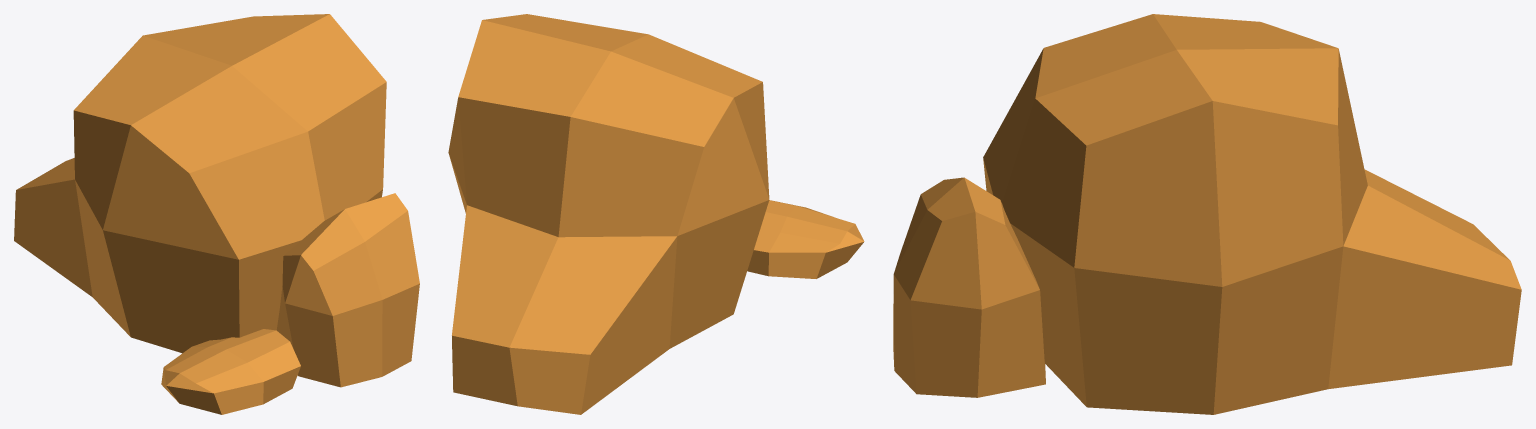
Rendered from yellow_stone_04.fbx.
3 views of the same model, side by side, from view 1: azimuth 30°, elevation 25°; view 2: azimuth 150°, elevation 25°; view 3: azimuth 270°, elevation 25° (orthographic). The views are drawn at different scales.
Parts seen in each view (by area): view 1: yellow_stone_04; view 2: yellow_stone_04; view 3: yellow_stone_04.
Part boxes in pixels (bbox=[...]): yellow_stone_04: bbox=[14, 14, 419, 414]; yellow_stone_04: bbox=[448, 14, 864, 414]; yellow_stone_04: bbox=[893, 14, 1521, 414].
Bounding box in the file's own units: 211 × 173 × 306.
